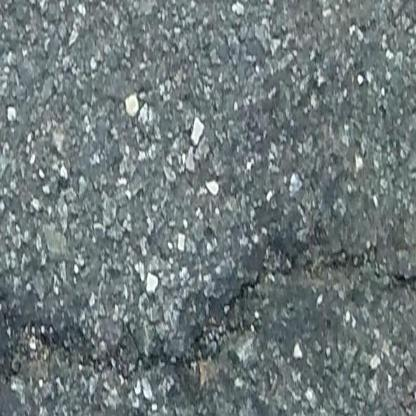Cracks: (0, 238, 416, 411)
